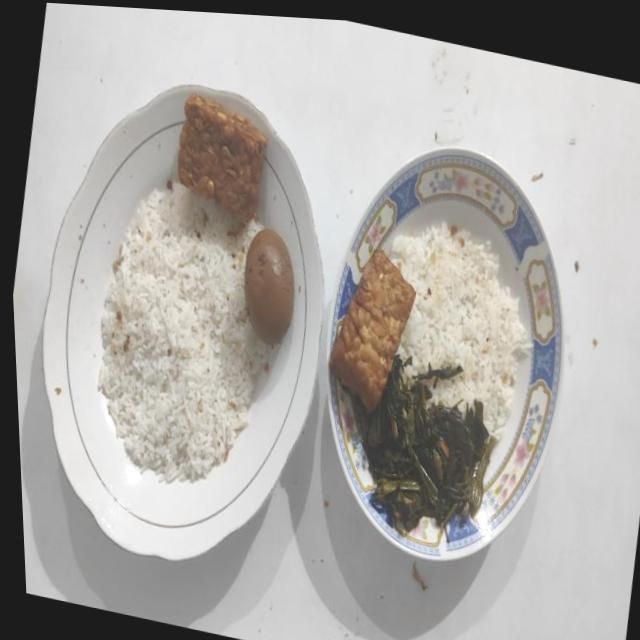nasi_putih: (98, 185, 270, 483), (391, 222, 532, 439)
tempe_goreng: (330, 249, 416, 412), (178, 94, 267, 218)
tumis_kangkung: (352, 355, 494, 532)
